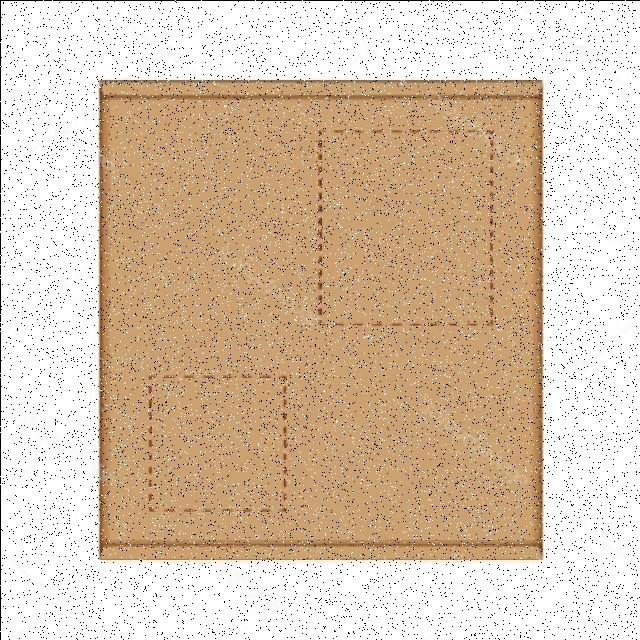normal: (90, 76, 548, 564)
